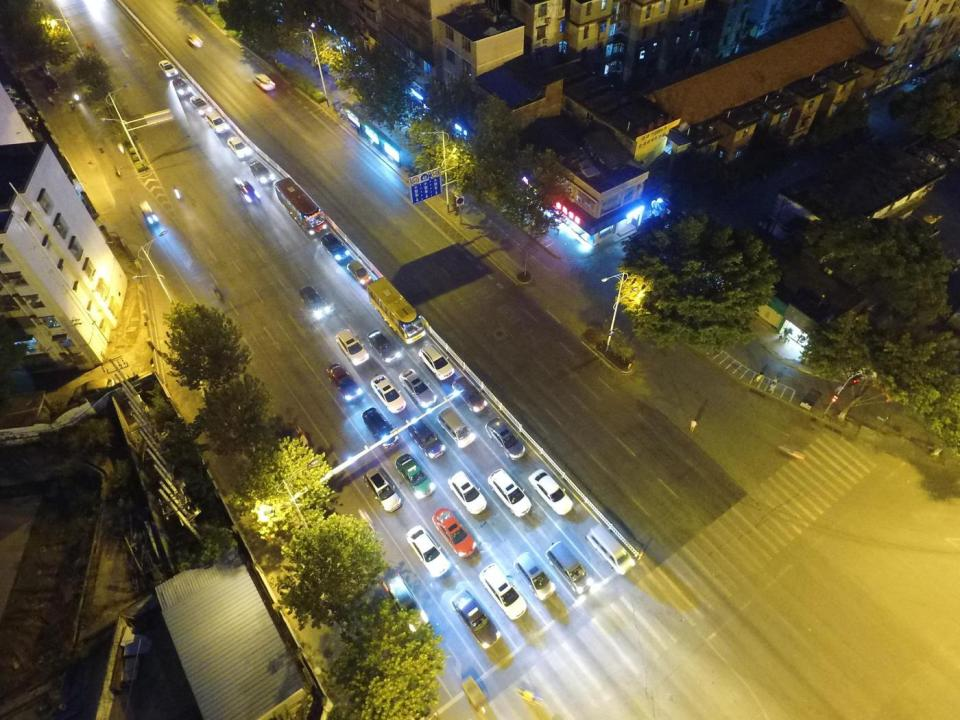bus: (368, 277, 426, 345), (274, 176, 328, 237)
car: (380, 573, 432, 632), (450, 589, 500, 649), (479, 563, 527, 620), (404, 524, 451, 580), (432, 508, 478, 558), (528, 468, 574, 518), (489, 468, 533, 518), (514, 552, 556, 601), (396, 452, 436, 500), (446, 471, 488, 516), (364, 467, 403, 513), (485, 418, 526, 461), (406, 418, 447, 460), (400, 368, 439, 410), (361, 407, 400, 449), (326, 362, 363, 401), (370, 374, 406, 413), (452, 375, 488, 414), (419, 345, 456, 380), (335, 329, 369, 366), (367, 328, 401, 364), (321, 232, 351, 262), (346, 260, 373, 287), (234, 178, 260, 206), (249, 160, 276, 186), (205, 111, 229, 134), (227, 136, 251, 158), (190, 95, 214, 117), (170, 78, 191, 97), (158, 60, 179, 78), (254, 74, 275, 92), (184, 32, 204, 48)
van: (584, 526, 636, 578), (546, 539, 593, 594), (437, 407, 478, 448), (299, 284, 329, 319), (138, 201, 158, 226)
